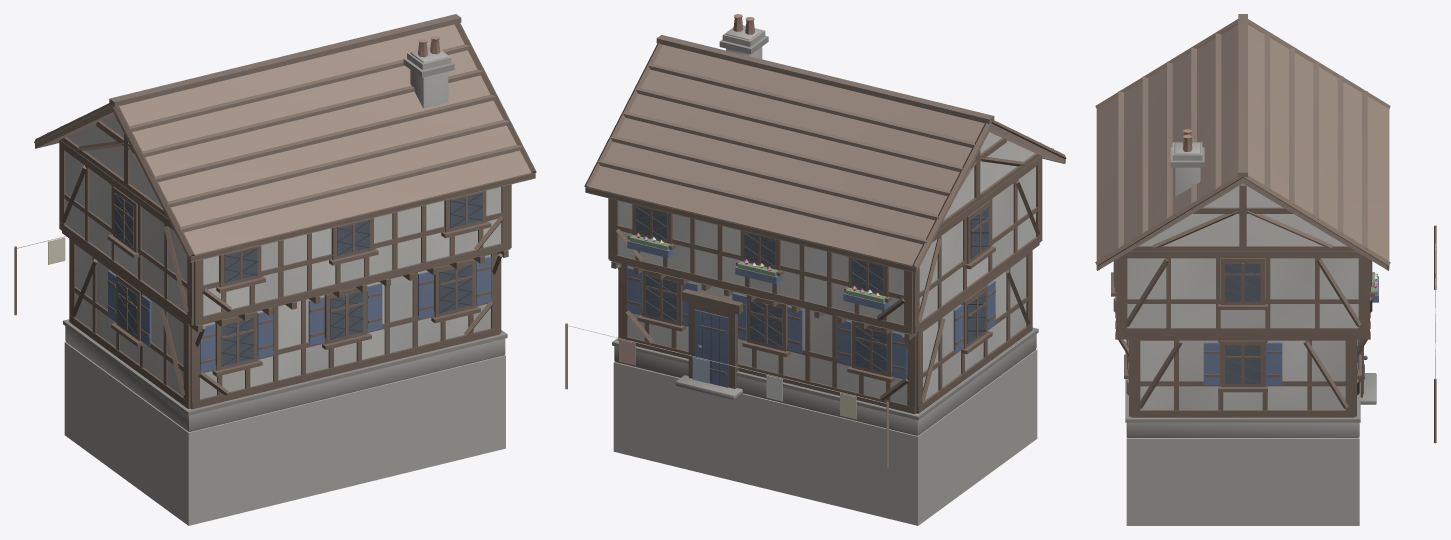
The model's file is house_3_2.gltf.
3 views of the same model, side by side, from view 1: azimuth 30°, elevation 25°; view 2: azimuth 150°, elevation 25°; view 3: azimuth 270°, elevation 25° (orthographic). The views are drawn at different scales.
Visible parts, largest first — view 1: Body; view 2: Body; view 3: Body.
Boxes of the visible parts, <box> form: Body: <box>14,14,536,525</box>; Body: <box>565,14,1066,525</box>; Body: <box>1095,14,1436,525</box>.
Bounding box in the file's own units: 10.17 × 11.1 × 9.24.
